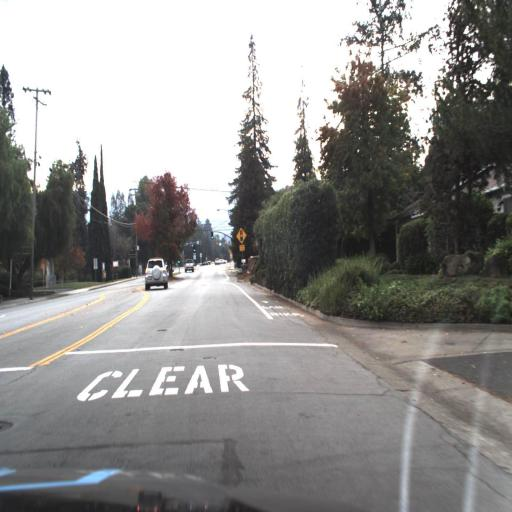car: (144, 258, 168, 292)
